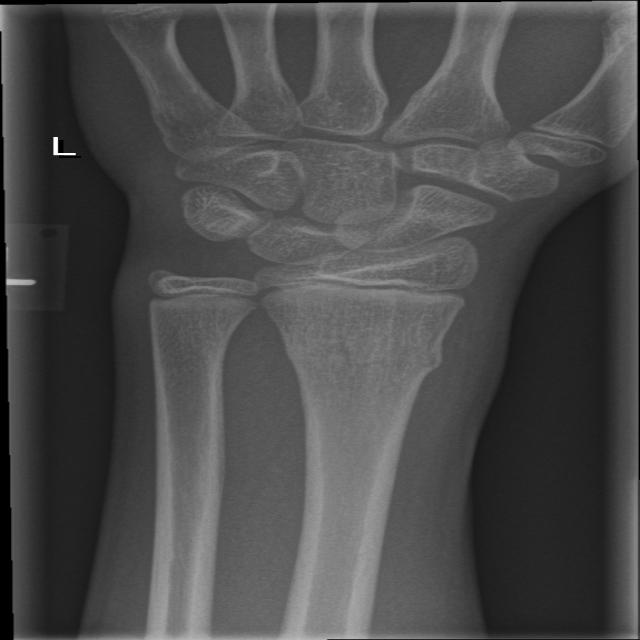radius fracture: (254, 326, 486, 426)
